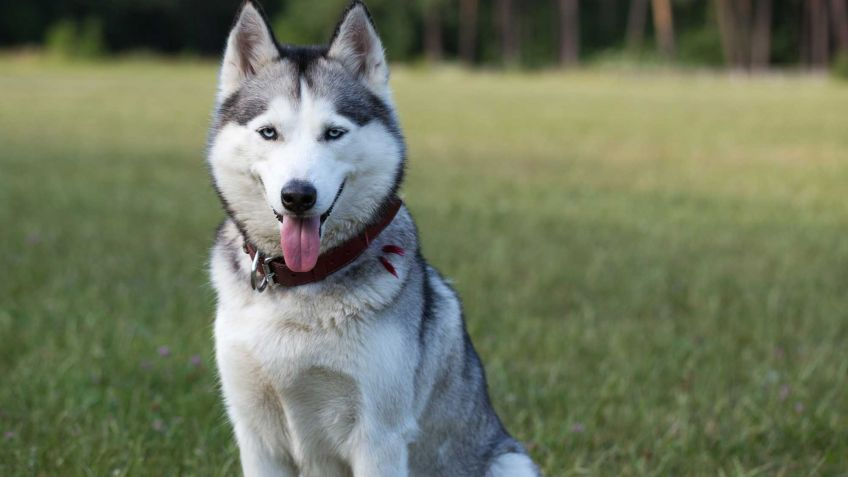husky: (191, 4, 490, 477)
